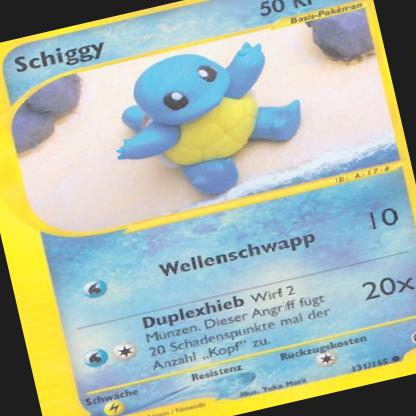Squirtle: (96, 24, 330, 219)
